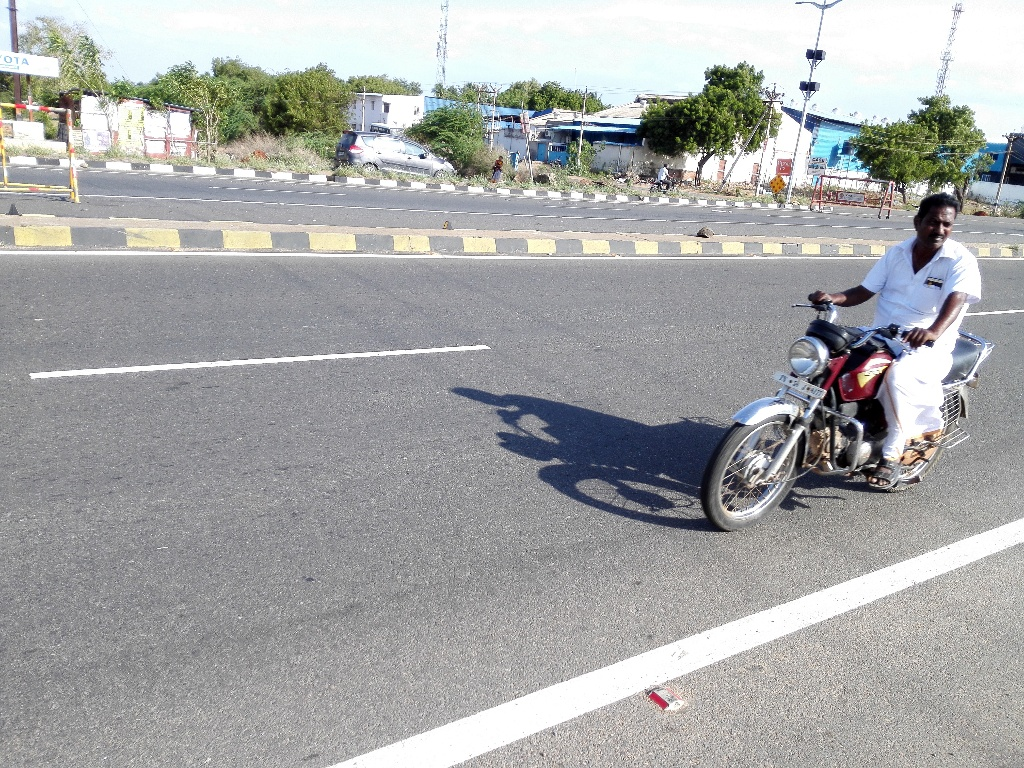biker: (681, 128, 1010, 549)
nohelmet: (901, 178, 966, 276)
